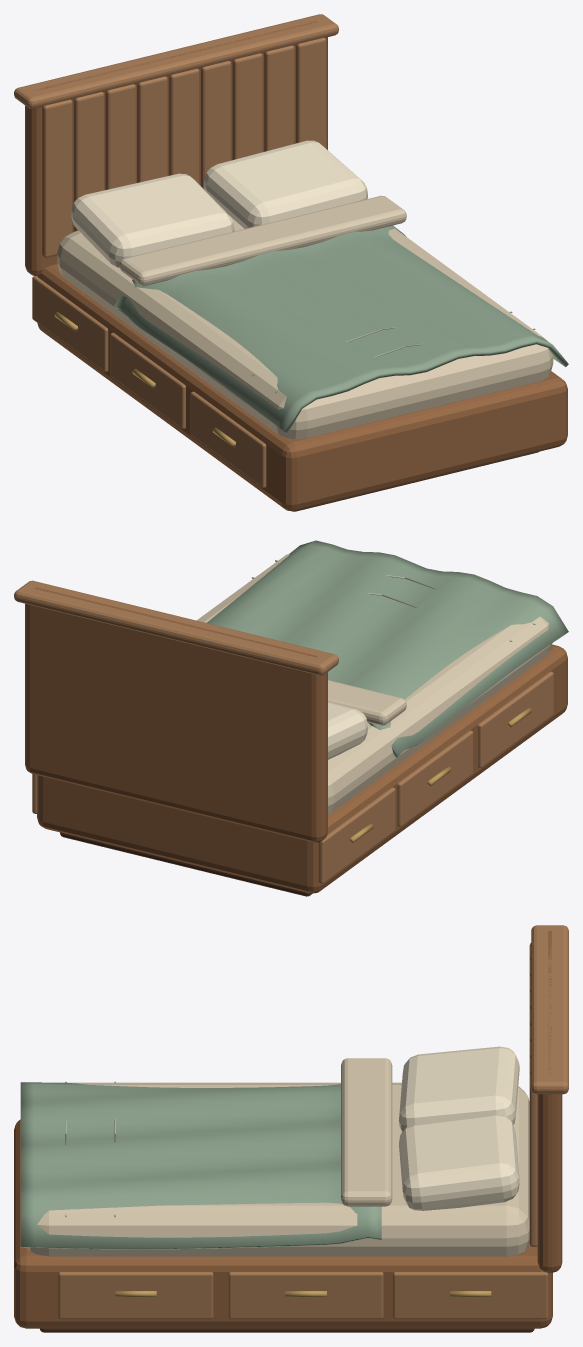
The model's file is CabinBed.fbx.
3 renders of one model, top to bottom at view 1: azimuth 30°, elevation 25°; view 2: azimuth 150°, elevation 25°; view 3: azimuth 270°, elevation 25°, orthographic. The views are drawn at different scales.
Parts seen in each view (by area): view 1: CabinBed; view 2: CabinBed; view 3: CabinBed.
Boxes of the visible parts, left/top/right/bottom form: CabinBed: left=14, top=14, right=568, bottom=511; CabinBed: left=14, top=540, right=568, bottom=896; CabinBed: left=14, top=925, right=568, bottom=1332.
Bounding box in the file's own units: 2.01 × 1.55 × 2.94.
